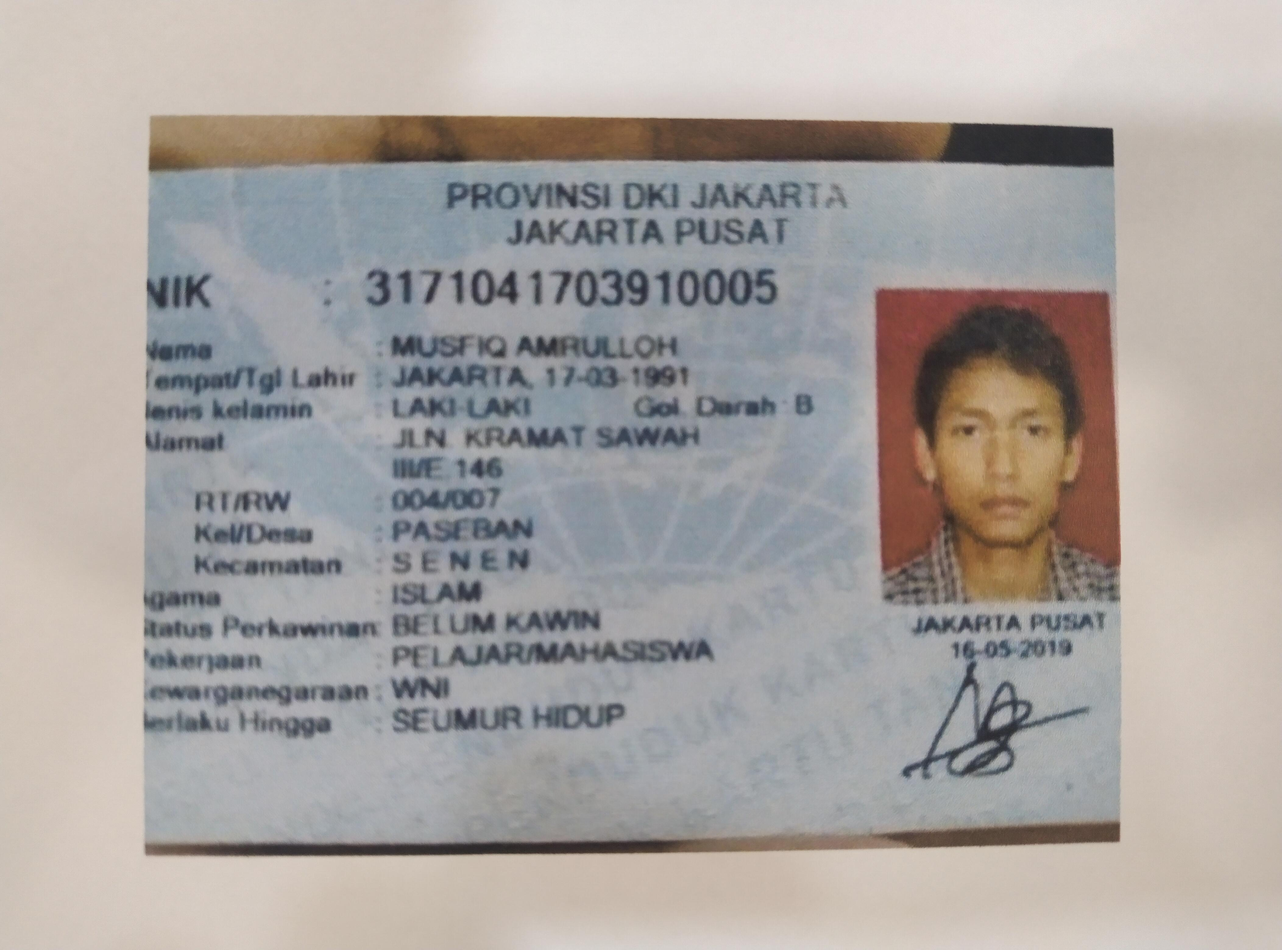ID-card: (141, 169, 1112, 836)
